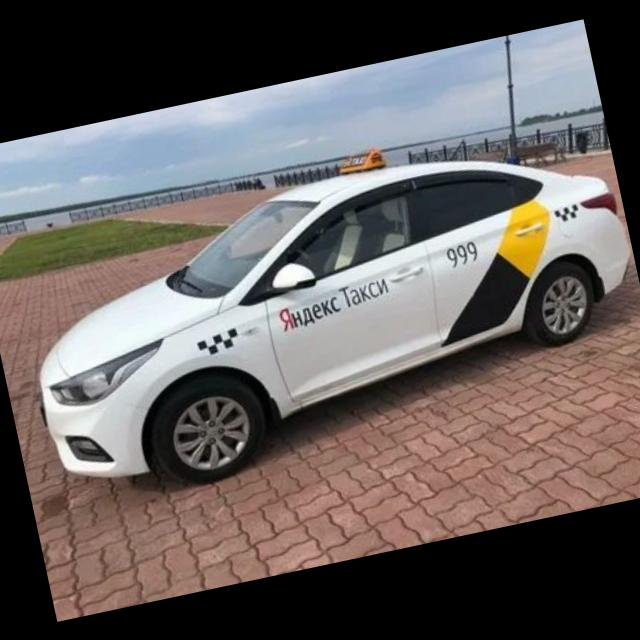taxi: (4, 116, 640, 514)
